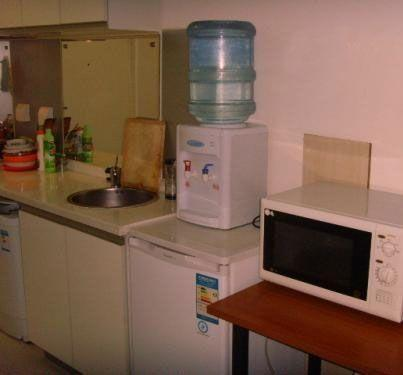Dispenser: (173, 19, 268, 230)
